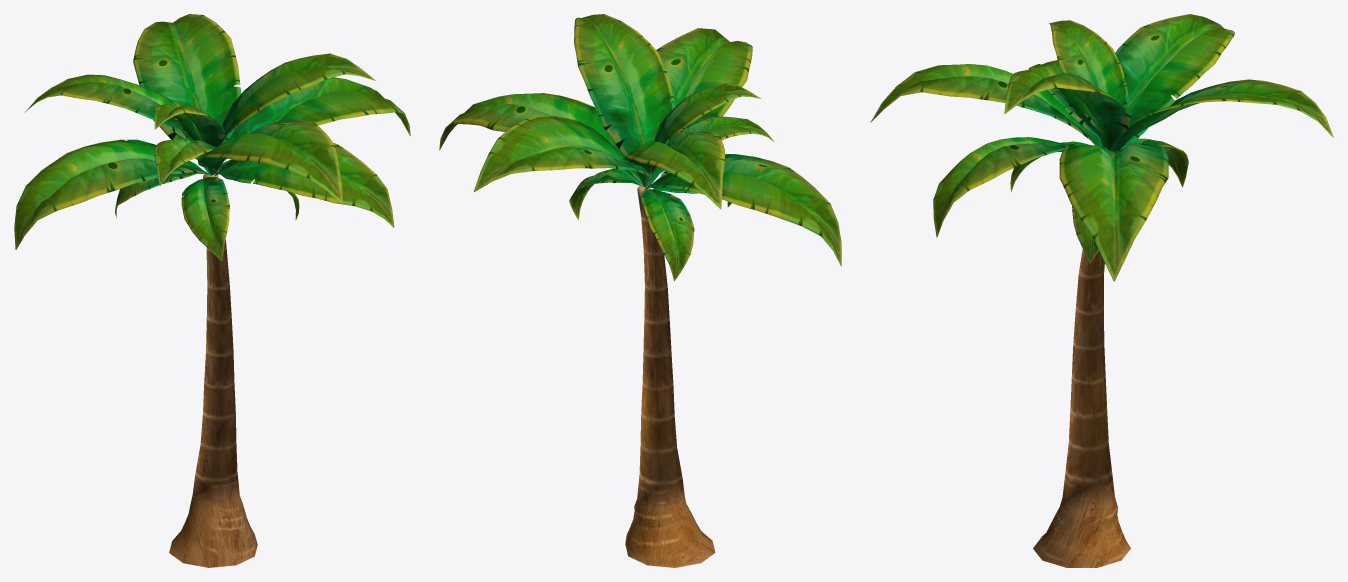
File: Palm_006.fbx
3 renders of one model, left to right at view 1: azimuth 30°, elevation 25°; view 2: azimuth 150°, elevation 25°; view 3: azimuth 270°, elevation 25°, orthographic. The views are drawn at different scales.
Visible parts, largest first — view 1: Palm_006_LOD0; view 2: Palm_006_LOD0; view 3: Palm_006_LOD0.
Part boxes in pixels (bbox=[...]): Palm_006_LOD0: bbox=[14, 14, 410, 567]; Palm_006_LOD0: bbox=[439, 14, 841, 567]; Palm_006_LOD0: bbox=[870, 14, 1333, 567].
Size of what is drawn, in the model's own units: 617 by 718 by 579.
